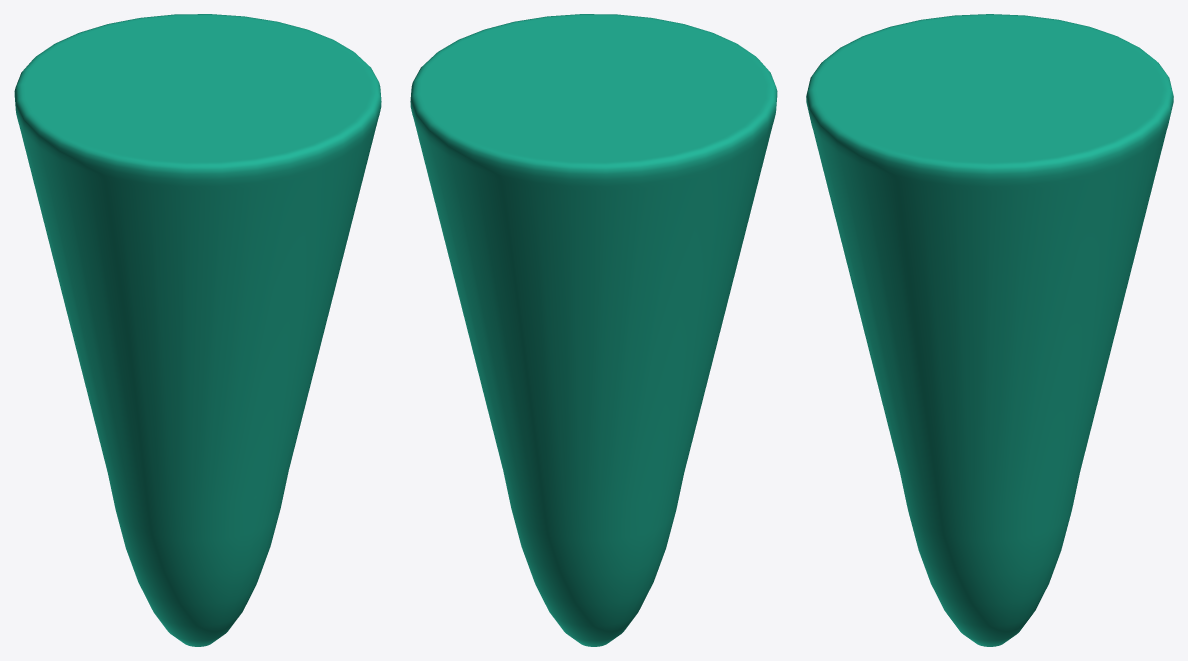
File: table.obj
3 views of the same model, side by side, from view 1: azimuth 30°, elevation 25°; view 2: azimuth 150°, elevation 25°; view 3: azimuth 270°, elevation 25° (orthographic).
Parts seen in each view (by area): view 1: Table_110.002; view 2: Table_110.002; view 3: Table_110.002.
Boxes of the visible parts, x1,y1,x2,y2 form: Table_110.002: (14,14,381,646); Table_110.002: (410,14,777,646); Table_110.002: (806,14,1173,646).
Size of the model in its own units: 15.35 by 25.57 by 15.35.
